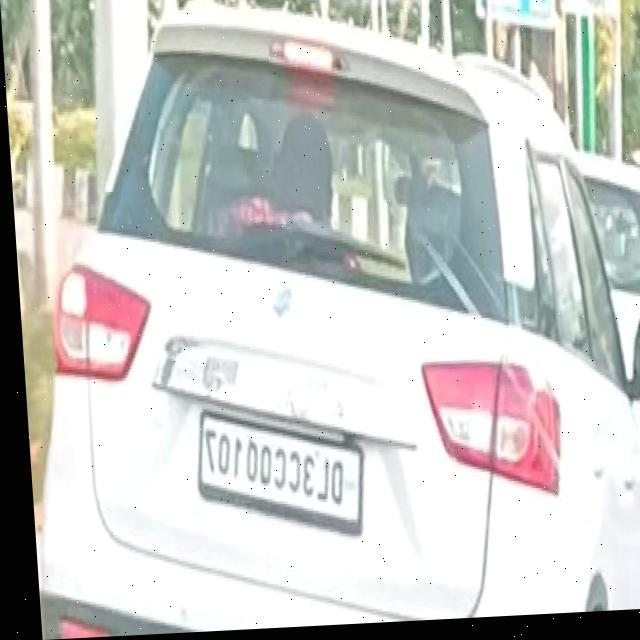plate: (187, 406, 361, 554)
